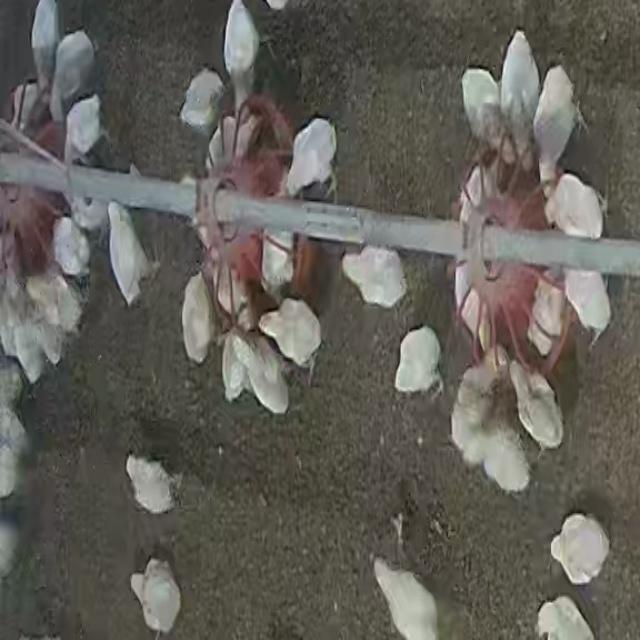chicken: (99, 197, 168, 306), (444, 343, 509, 445), (258, 295, 326, 386), (497, 25, 541, 158), (226, 329, 290, 415), (459, 429, 539, 497), (507, 355, 562, 453), (531, 62, 576, 178), (339, 242, 411, 310), (284, 114, 344, 194), (50, 29, 97, 125), (390, 324, 448, 400), (550, 513, 609, 586), (454, 60, 500, 152), (129, 557, 182, 636), (124, 454, 178, 518), (181, 272, 215, 364), (179, 66, 226, 132), (65, 94, 104, 166), (51, 215, 91, 278)
